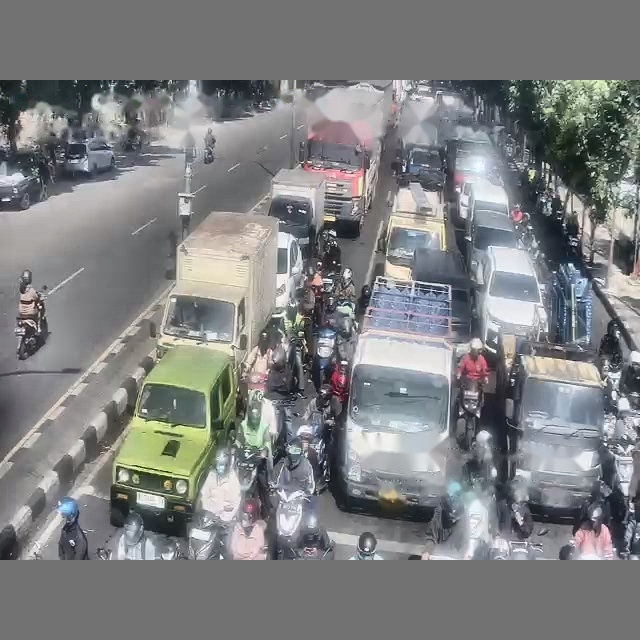Mobil: (110, 346, 236, 526), (475, 246, 547, 353), (0, 151, 46, 209), (274, 232, 303, 316), (63, 138, 115, 175), (410, 85, 432, 101)
Motor: (297, 411, 329, 493), (14, 285, 47, 359), (276, 488, 308, 559), (187, 511, 227, 559), (456, 380, 481, 450), (312, 326, 335, 391)
Truk: (334, 276, 458, 509), (150, 211, 278, 373), (299, 89, 385, 235), (268, 168, 325, 258)
